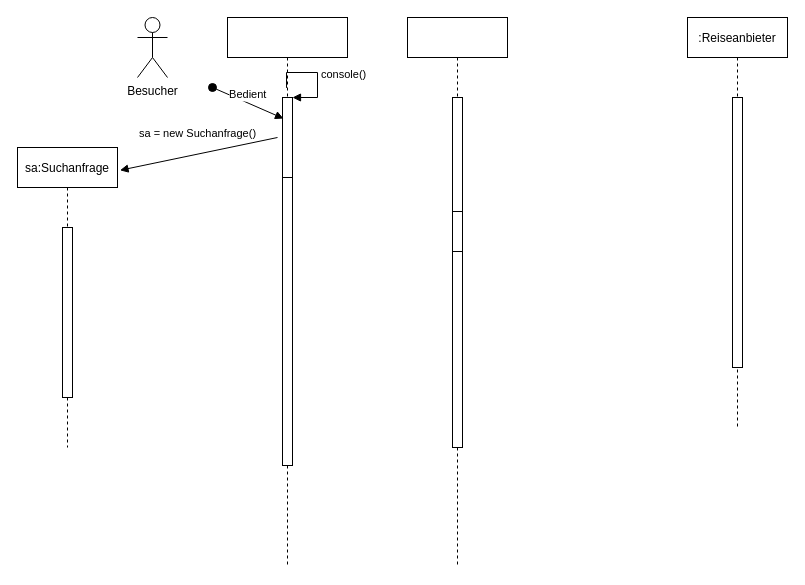
Some shapes in this 805 by 585 pixel diagram are drawn without their labels. The box of each missing label's shape, as (x1, y1, x2, y2) in pixels:
:Adapter: (406, 16, 508, 568)
:Hotelsuche: (226, 16, 348, 568)
